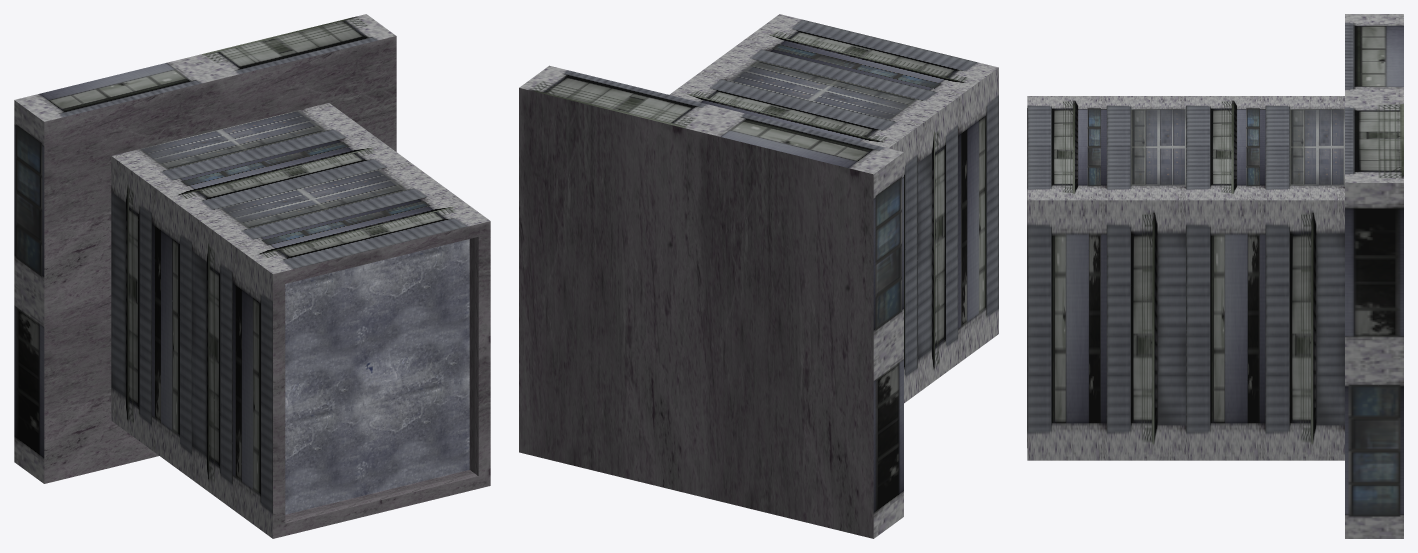
The model's file is urbanoffice2d_wtf.obj.
3 views of the same model, side by side, from view 1: azimuth 30°, elevation 25°; view 2: azimuth 150°, elevation 25°; view 3: azimuth 270°, elevation 25° (orthographic). The views are drawn at different scales.
Parts seen in each view (by area): view 1: group5, group3, group4; view 2: group3, group5; view 3: group5.
Part boxes in pixels (<box>): group5: <box>14,14,490,538</box>; group3: <box>44,36,490,538</box>; group4: <box>285,239,469,514</box>; group3: <box>519,88,873,538</box>; group5: <box>519,14,998,538</box>; group5: <box>1027,14,1403,538</box>.
Bounding box in the file's own units: 660 × 648 × 622.
